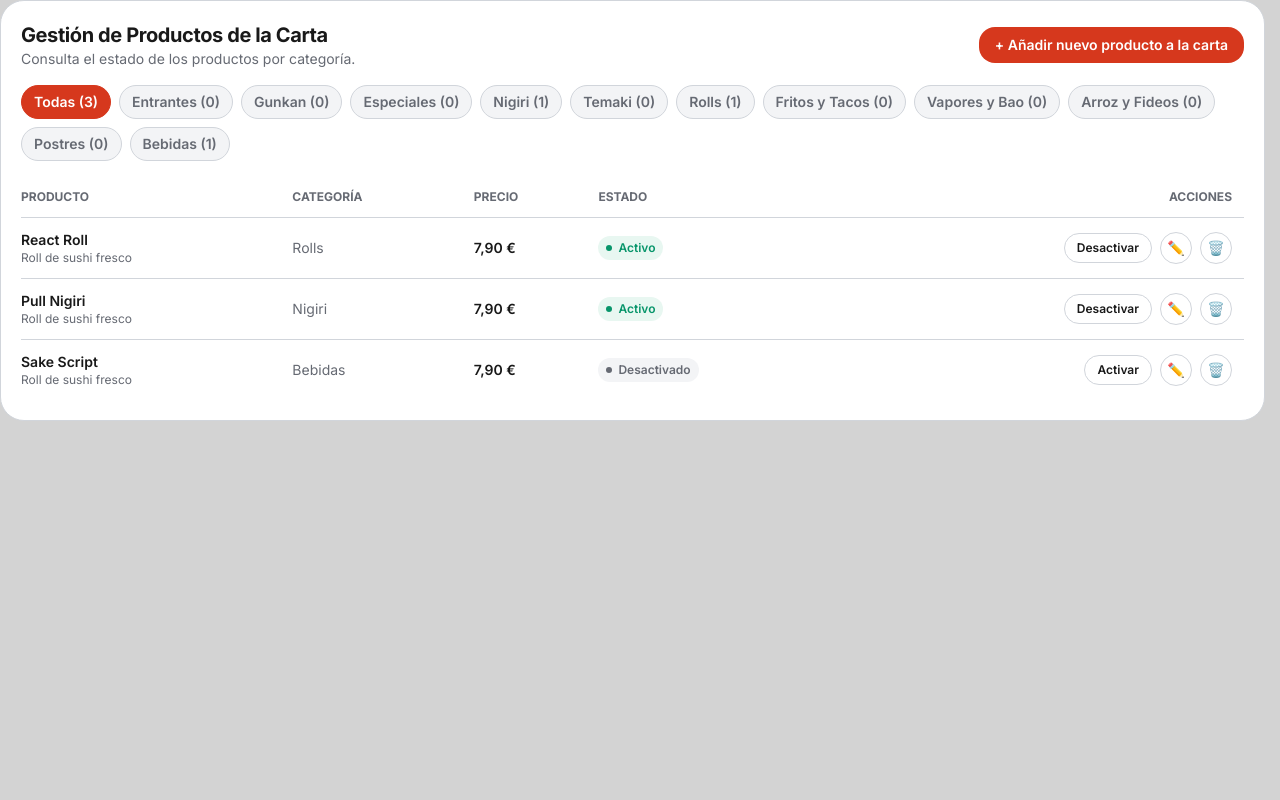
Test: AdminProductsPanel › deleting › asks for confirmation showing the product name
The image size is (1280, 800).
Click the button named "Eliminar producto" at (1216, 248), box 1200,232 -> 1232,264
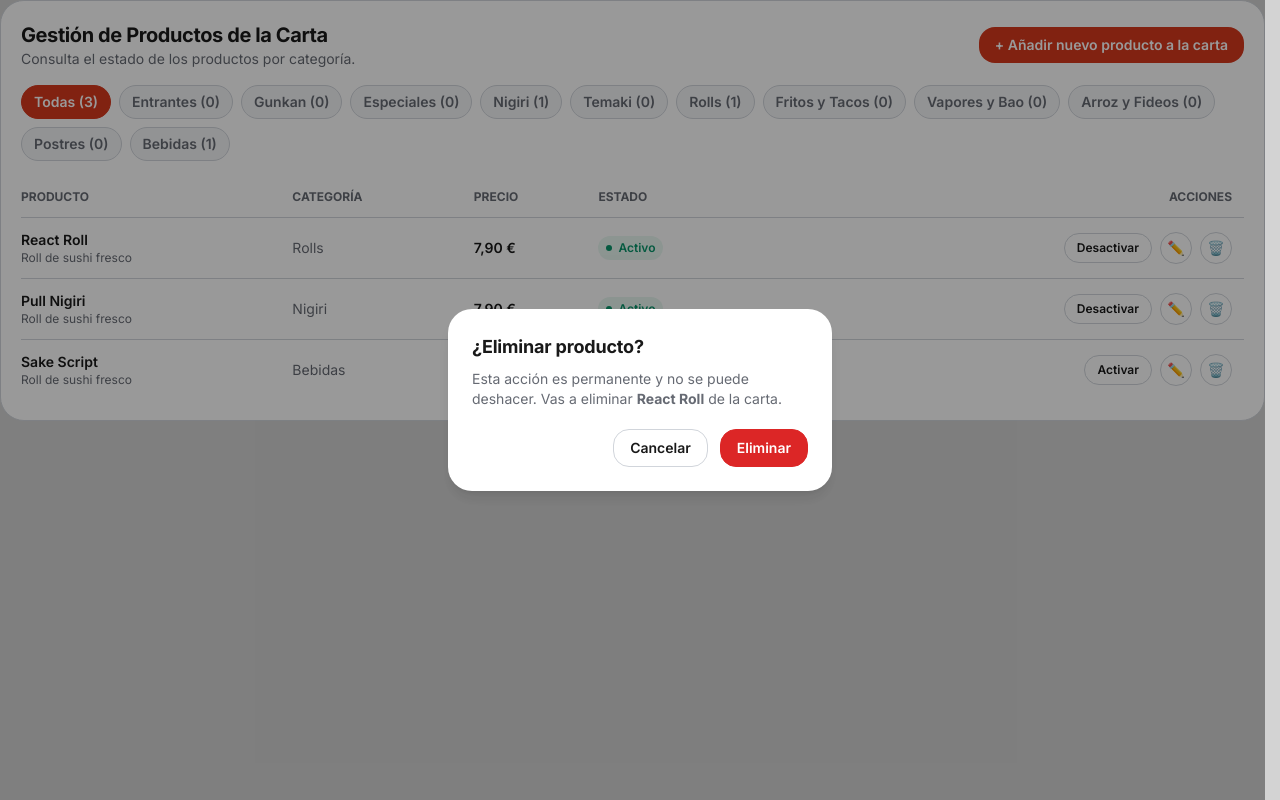
Expected: the dialog with class "confirm-dialog" is shown
Expected: the text "React Roll" is shown, 637,390 -> 704,407
